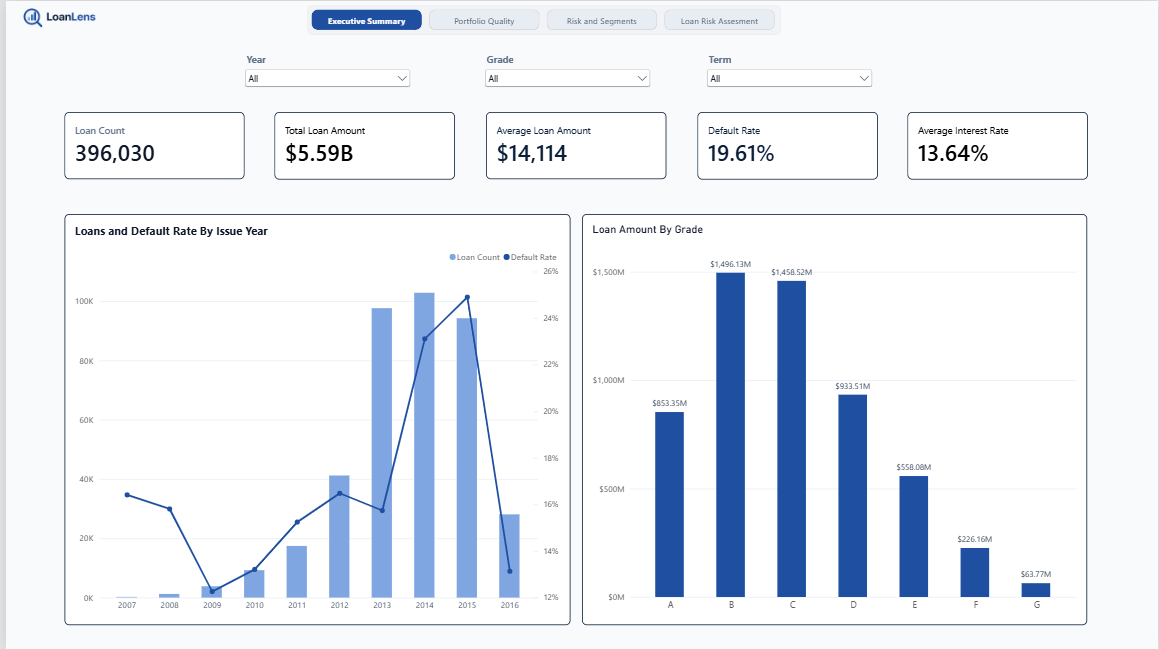

This screenshot's page, from the dashboard's own definition file:
{"tool":"powerbi","page":{"name":"Executive Summary","canvas":[1920,1080],"ordinal":0},"visuals":[{"type":"cardVisual","fields":{"Data":["_Measures.Loan Count"]},"box":[97,185.7,300,112],"z":0},{"type":"cardVisual","fields":{"Data":["_Measures.Total Loan Amount Card"]},"box":[448.2,185.7,300.5,112.3],"z":1000},{"type":"cardVisual","fields":{"Data":["_Measures.Average Loan Amount"]},"box":[799.9,185.7,300.5,112],"z":2000},{"type":"cardVisual","fields":{"Data":["_Measures.Default Rate"]},"box":[1151.6,185.7,300.5,112.3],"z":3000},{"type":"cardVisual","fields":{"Data":["_Measures.Average Interest Rate"]},"box":[1503.3,185.7,300.5,112.3],"z":4000},{"type":"pageNavigator","title":"Execut","box":[501.7,8.3,788.6,48.6],"z":5000},{"type":"image","box":[16,8,152,40],"z":6000},{"type":"slicer","fields":{"Values":["dim_date.year"]},"box":[384.3,78.6,301.4,82.9],"z":7000},{"type":"slicer","fields":{"Values":["dim_grade.credit_grade"]},"box":[785.7,78.6,301.4,85.7],"z":8000},{"type":"slicer","fields":{"Values":["dim_term.term_label"]},"box":[1154.3,78.6,301.4,107.1],"z":9000},{"type":"lineClusteredColumnComboChart","title":"Loans and Default Rate By Issue Year","fields":{"Category":["dim_date.year"],"Y":["_Measures.Loan Count"],"Y2":["_Measures.Default Rate"]},"box":[98,355,843,685],"z":10000},{"type":"clusteredColumnChart","title":"Loan Amount By Grade","fields":{"Category":["dim_grade.credit_grade"],"Y":["_Measures.Total Loan Amount"]},"box":[961,355,842,685],"z":11000}]}

Visuals, with their boxes in screenshot pixels (x1, y1, x2, y2), scaled from the page's 1920x1080 canvas onto the 1159x649 screenshot:
cardVisual - _Measures.Loan Count: bbox(59, 112, 240, 179)
cardVisual - _Measures.Total Loan Amount Card: bbox(271, 112, 452, 179)
cardVisual - _Measures.Average Loan Amount: bbox(483, 112, 664, 179)
cardVisual - _Measures.Default Rate: bbox(695, 112, 877, 179)
cardVisual - _Measures.Average Interest Rate: bbox(907, 112, 1089, 179)
"Execut" pageNavigator: bbox(303, 5, 779, 34)
image: bbox(10, 5, 101, 29)
slicer - dim_date.year: bbox(232, 47, 414, 97)
slicer - dim_grade.credit_grade: bbox(474, 47, 656, 99)
slicer - dim_term.term_label: bbox(697, 47, 879, 112)
"Loans and Default Rate By Issue Year" lineClusteredColumnComboChart: bbox(59, 213, 568, 625)
"Loan Amount By Grade" clusteredColumnChart: bbox(580, 213, 1088, 625)
